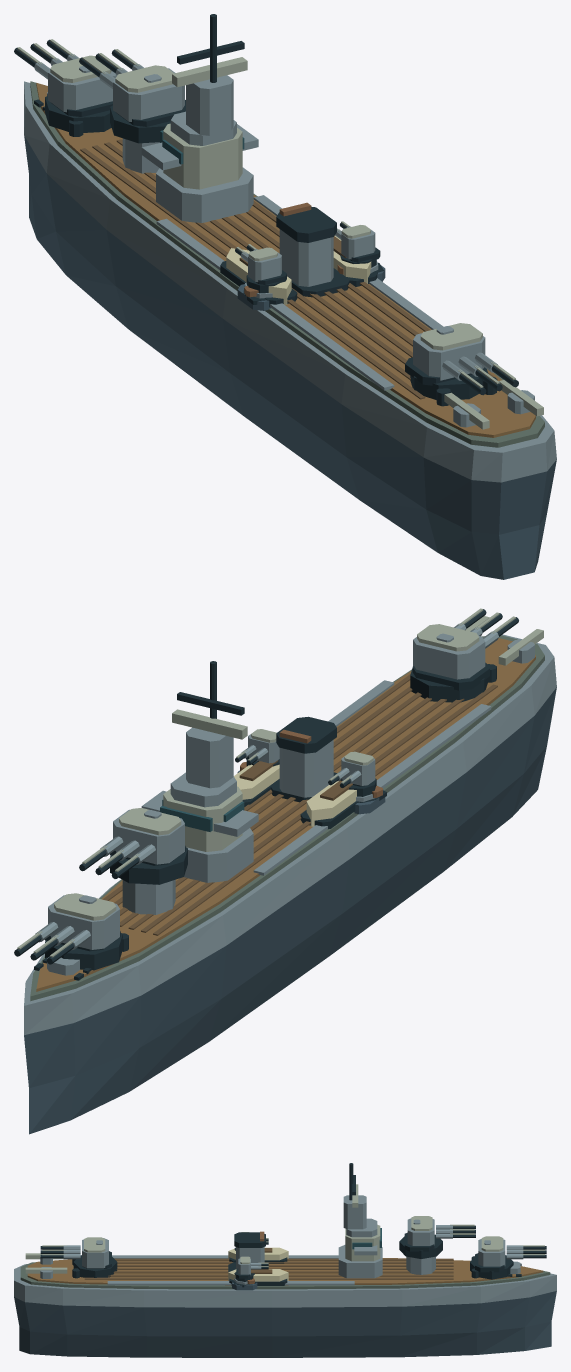
The model's file is historic-oregon-city.glb.
3 views of the same model, one above another, from view 1: azimuth 30°, elevation 25°; view 2: azimuth 150°, elevation 25°; view 3: azimuth 270°, elevation 25° (orthographic). The views are drawn at different scales.
Visible parts, largest first — view 1: historic-oregon-city-historic-oregon-city-geometry, historic-oregon-city-part_bridge.100-geometry, historic-oregon-city-turret_main_2.060-geometry, historic-oregon-city-turret_main_1.067-geometry, historic-oregon-city-turret_main_0.071-geometry, historic-oregon-city-historic_funnel_0.098-geometry, historic-oregon-city-turret_aa_aa-port.102-geometry, historic-oregon-city-turret_aa_aa-starboard.098-geometry; view 2: historic-oregon-city-historic-oregon-city-geometry, historic-oregon-city-part_bridge.100-geometry, historic-oregon-city-turret_main_2.060-geometry, historic-oregon-city-turret_main_1.067-geometry, historic-oregon-city-turret_main_0.071-geometry, historic-oregon-city-historic_funnel_0.098-geometry, historic-oregon-city-turret_aa_aa-port.102-geometry, historic-oregon-city-turret_aa_aa-starboard.098-geometry; view 3: historic-oregon-city-historic-oregon-city-geometry, historic-oregon-city-part_bridge.100-geometry, historic-oregon-city-turret_main_1.067-geometry, historic-oregon-city-turret_main_0.071-geometry, historic-oregon-city-turret_main_2.060-geometry, historic-oregon-city-historic_funnel_0.098-geometry, historic-oregon-city-turret_aa_aa-starboard.098-geometry.
Boxes of the visible parts, box(x1,y1,x2,y2) form: historic-oregon-city-historic-oregon-city-geometry: box(24, 81, 556, 579); historic-oregon-city-part_bridge.100-geometry: box(141, 14, 258, 222); historic-oregon-city-turret_main_2.060-geometry: box(405, 323, 518, 399); historic-oregon-city-turret_main_1.067-geometry: box(79, 49, 185, 143); historic-oregon-city-turret_main_0.071-geometry: box(14, 39, 116, 132); historic-oregon-city-historic_funnel_0.098-geometry: box(276, 202, 350, 297); historic-oregon-city-turret_aa_aa-port.102-geometry: box(235, 244, 286, 293); historic-oregon-city-turret_aa_aa-starboard.098-geometry: box(335, 221, 380, 267); historic-oregon-city-historic-oregon-city-geometry: box(24, 616, 556, 1134); historic-oregon-city-part_bridge.100-geometry: box(141, 661, 258, 882); historic-oregon-city-turret_main_2.060-geometry: box(410, 608, 518, 702); historic-oregon-city-turret_main_1.067-geometry: box(79, 808, 187, 884); historic-oregon-city-turret_main_0.071-geometry: box(14, 893, 122, 970); historic-oregon-city-historic_funnel_0.098-geometry: box(270, 716, 336, 802); historic-oregon-city-turret_aa_aa-port.102-geometry: box(328, 751, 376, 796); historic-oregon-city-turret_aa_aa-starboard.098-geometry: box(235, 729, 279, 766); historic-oregon-city-historic-oregon-city-geometry: box(14, 1247, 556, 1357); historic-oregon-city-part_bridge.100-geometry: box(338, 1163, 382, 1278); historic-oregon-city-turret_main_1.067-geometry: box(399, 1216, 475, 1258); historic-oregon-city-turret_main_0.071-geometry: box(470, 1236, 546, 1279); historic-oregon-city-turret_main_2.060-geometry: box(40, 1237, 117, 1277); historic-oregon-city-historic_funnel_0.098-geometry: box(228, 1231, 265, 1271); historic-oregon-city-turret_aa_aa-starboard.098-geometry: box(234, 1256, 268, 1281).
Bounding box in the file's own units: 0.6721 × 1.6 × 4.32.
